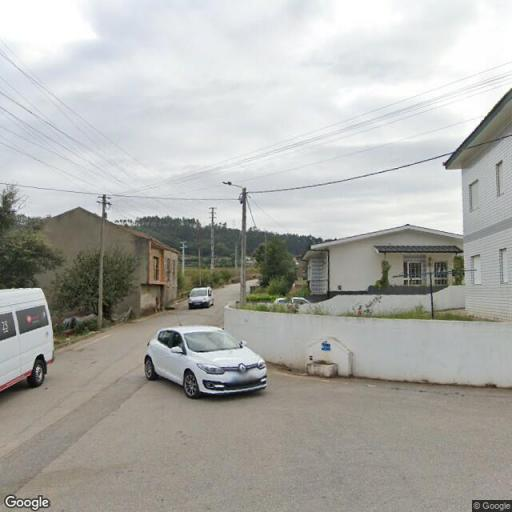mono_7: (96, 192, 114, 342)
mono_9: (207, 203, 218, 286)
